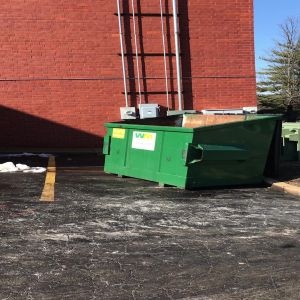Dumpster: (104, 111, 293, 191)
